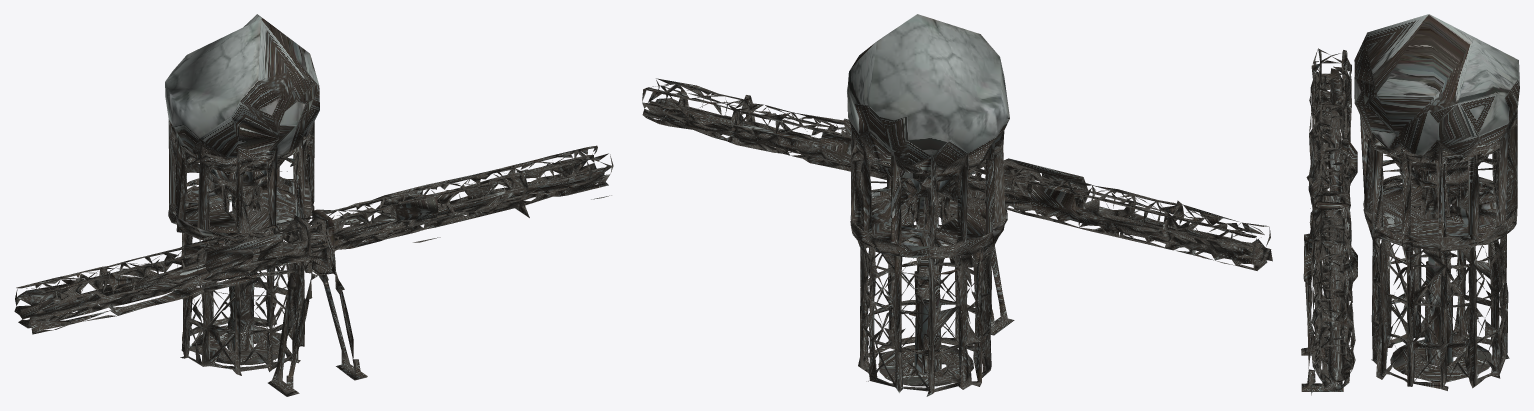
File: coronettower.lod1.glb
3 renders of one model, left to right at view 1: azimuth 30°, elevation 25°; view 2: azimuth 150°, elevation 25°; view 3: azimuth 270°, elevation 25°, orthographic. The views are drawn at different scales.
Parts seen in each view (by area): view 1: coronettower-centred; view 2: coronettower-centred; view 3: coronettower-centred.
Boxes of the visible parts, x1,y1,x2,y2 form: coronettower-centred: [14, 14, 613, 396]; coronettower-centred: [642, 14, 1272, 396]; coronettower-centred: [1301, 14, 1519, 395].
Size of the model in its own units: 110 by 59.7 by 33.12.
1 material, 1 textured.
